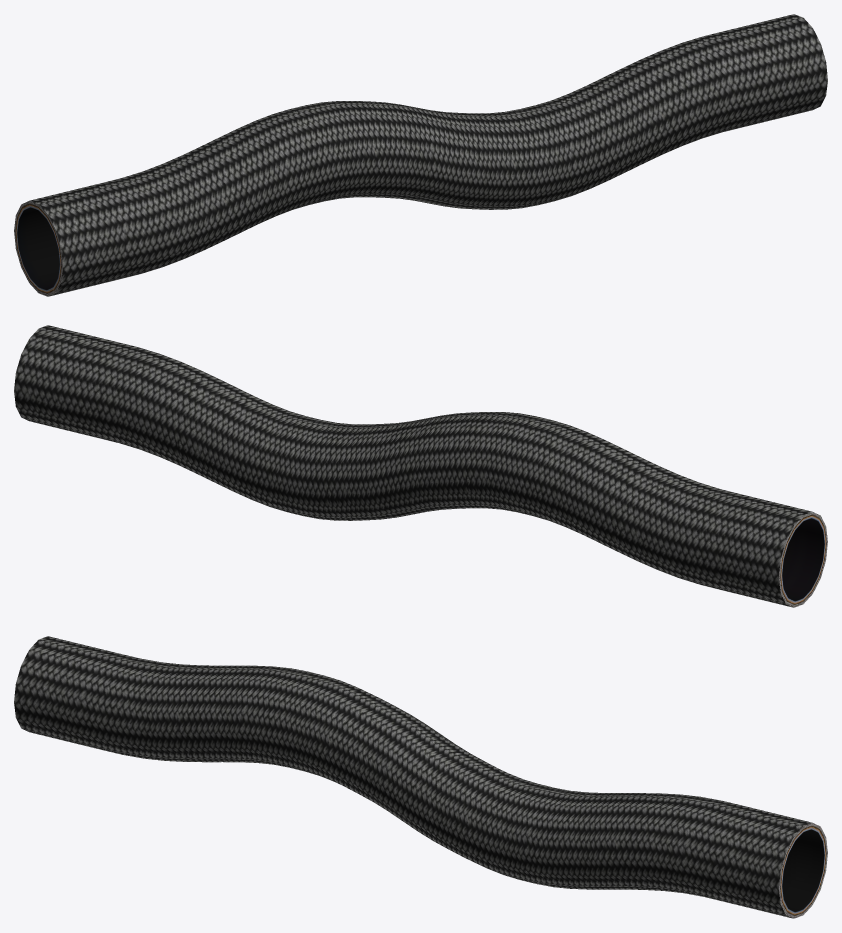
3 renders of one model, top to bottom at view 1: azimuth 30°, elevation 25°; view 2: azimuth 150°, elevation 25°; view 3: azimuth 330°, elevation 25°, orthographic.
Visible parts, largest first — view 1: Aramid_Braid-32; view 2: Aramid_Braid-32; view 3: Aramid_Braid-32.
Part boxes in pixels (x1,y1,x2,y2): Aramid_Braid-32: (14,14,827,296); Aramid_Braid-32: (14,325,827,607); Aramid_Braid-32: (14,636,827,918).
Bounding box in the file's own units: 0.5453 × 0.0989 × 0.0607.
2 materials, 2 textured.
